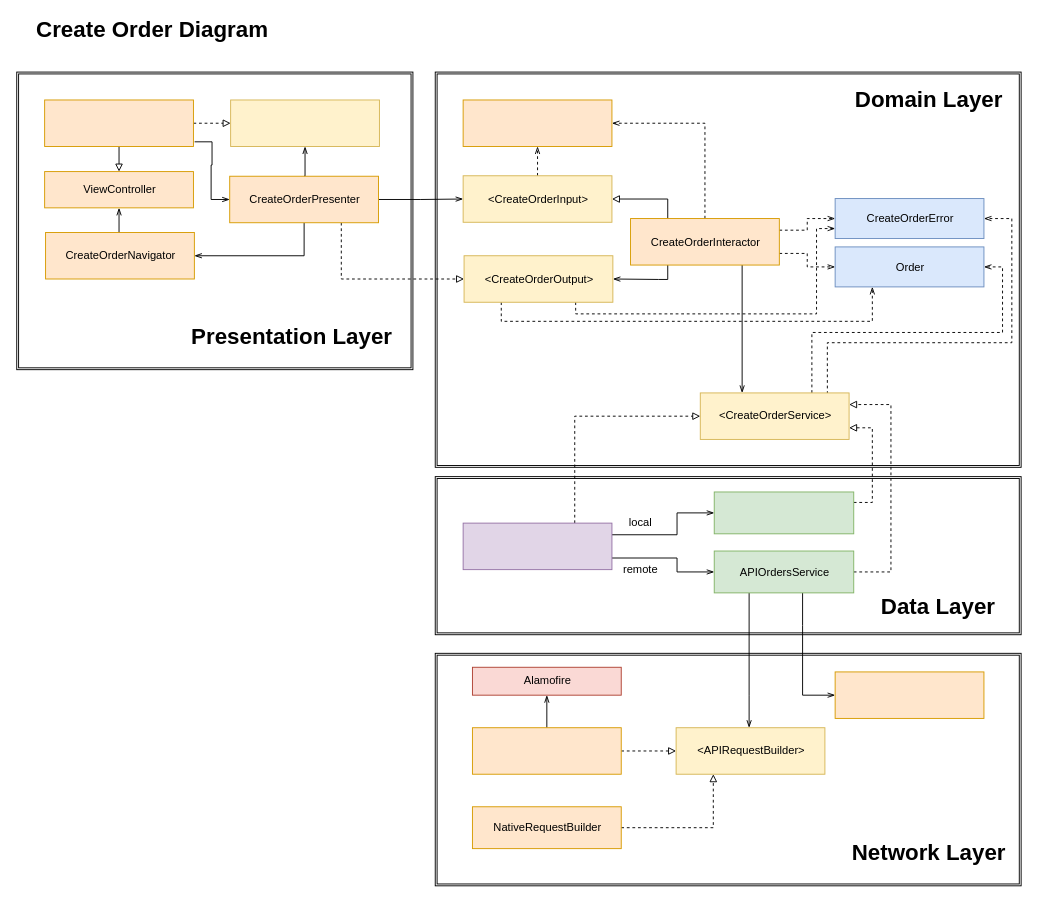
Some shapes in this 1037 by 902 pixel diagram are drawn without their labels. The shapes that lost their labels are listed below. From the top down, each one's box as (x1, y1, x2, y2) in pixels, then its label:
(44, 99, 193, 146): CreateOrderViewController
(230, 99, 379, 146): <CreateOrderView>
(462, 99, 612, 146): CreateOrderRequest
(713, 491, 854, 534): CoreDataOrdersService
(462, 522, 612, 570): CreateOrderRepository
(834, 671, 984, 718): EndpointBuilder
(472, 727, 621, 774): AlamofireRequestBuilder
